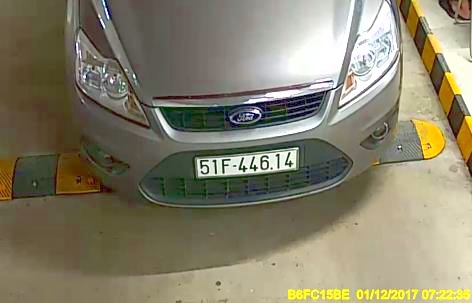plate: (194, 148, 299, 178)
